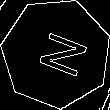N_W: (26, 26, 86, 81)
